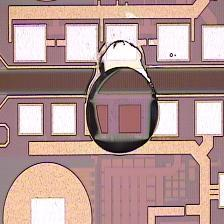COATING BAD: (81, 36, 164, 158)
